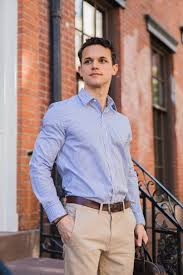F_belt: (62, 191, 153, 220)
F_shirt: (30, 91, 140, 226)
